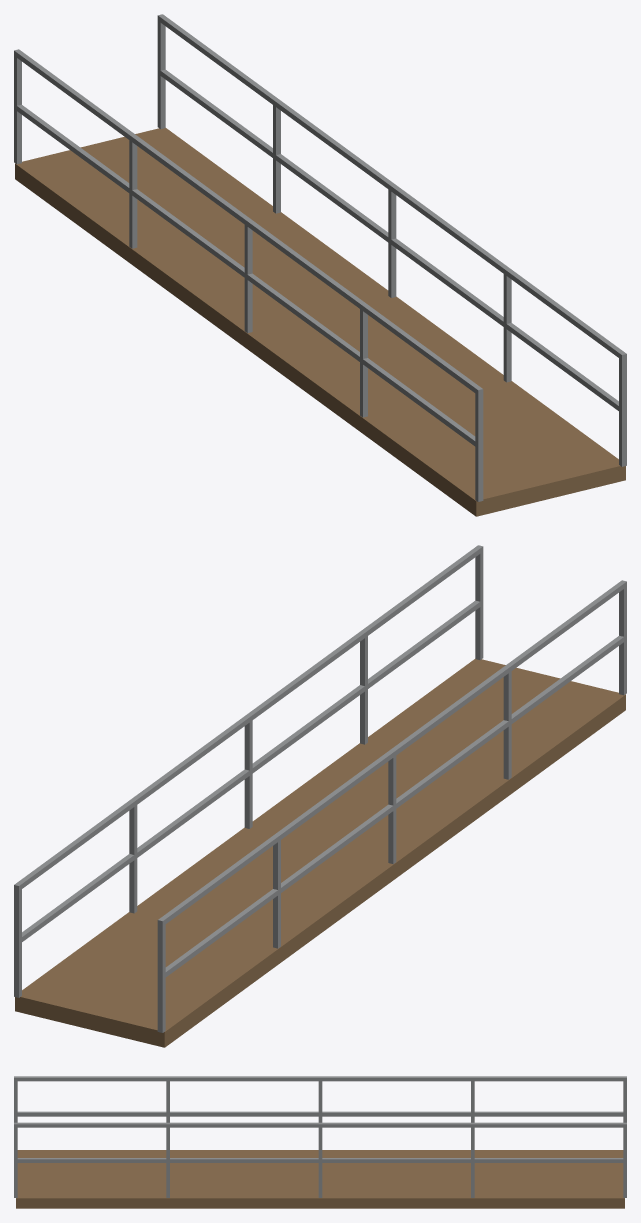
File: tf_canal_footbridge_8m.glb
3 renders of one model, top to bottom at view 1: azimuth 30°, elevation 25°; view 2: azimuth 150°, elevation 25°; view 3: azimuth 270°, elevation 25°, orthographic. The views are drawn at different scales.
Parts seen in each view (by area): view 1: tf_canal_footbridge_8m; view 2: tf_canal_footbridge_8m; view 3: tf_canal_footbridge_8m.
Boxes of the visible parts, <box> form: tf_canal_footbridge_8m: <box>14,14,626,516</box>; tf_canal_footbridge_8m: <box>14,545,626,1047</box>; tf_canal_footbridge_8m: <box>14,1076,626,1208</box>.
Size of what is drawn, in the model's own units: 1.5 by 1.22 by 8.05.
